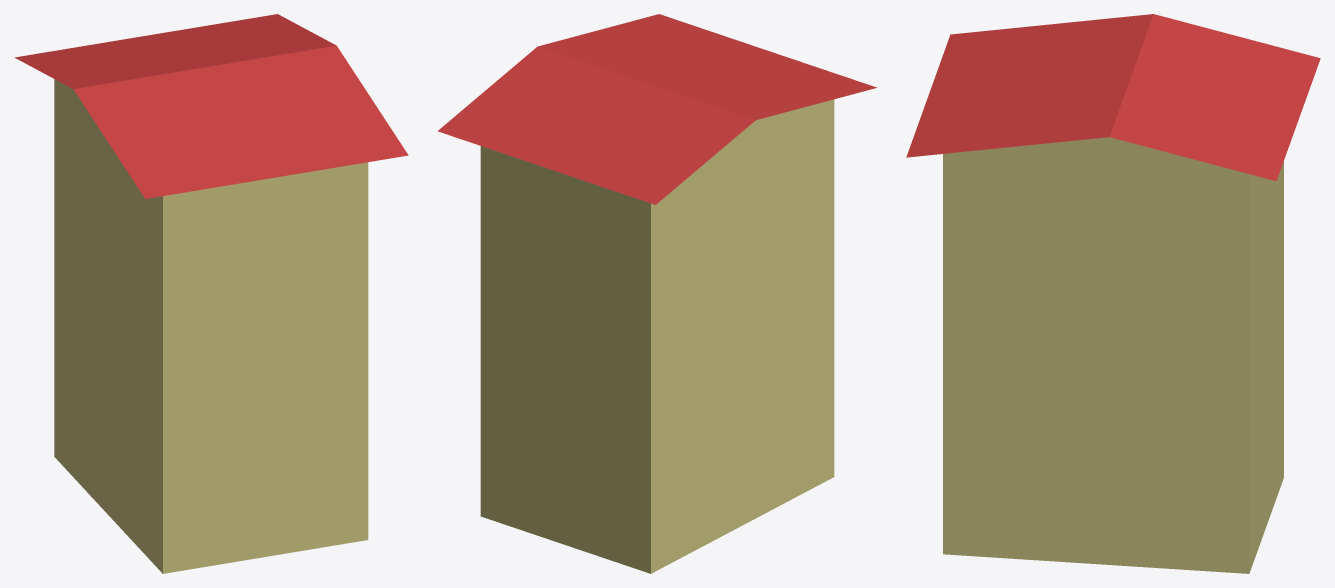
The picture shows the model from 3 angles, left to right: view 1: azimuth 30°, elevation 25°; view 2: azimuth 150°, elevation 25°; view 3: azimuth 270°, elevation 25°; orthographic projection. The views are drawn at different scales.
Bounding box in the file's own units: 5.37 × 6.4 × 7.53.
